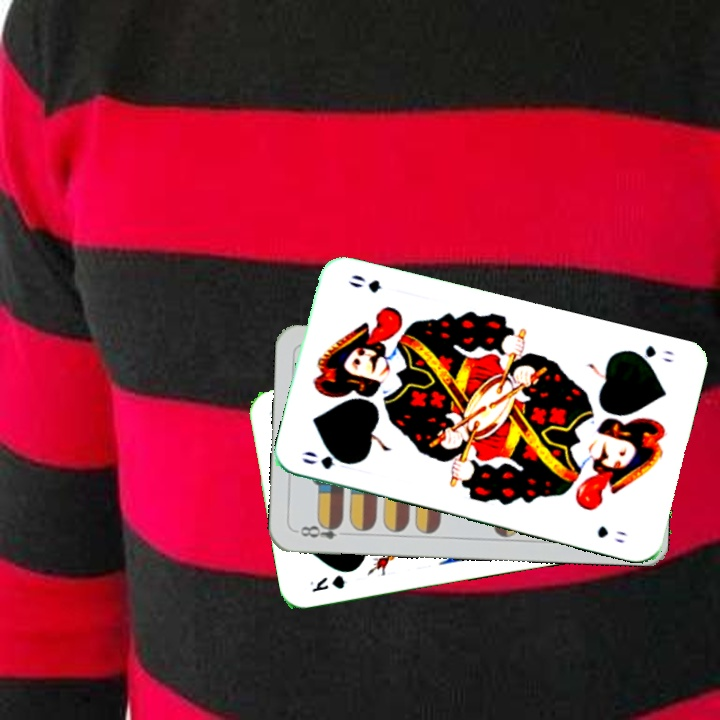E8: (293, 518, 352, 542)
GK: (305, 571, 350, 595)
GO: (298, 447, 357, 472), (623, 341, 677, 366)
